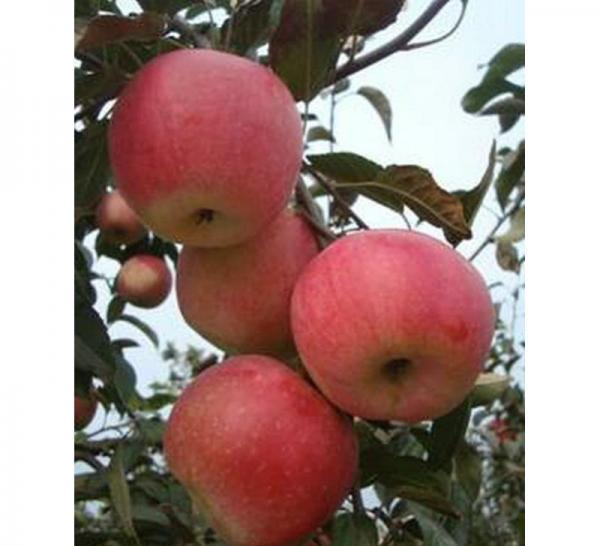apple: (105, 43, 304, 246), (287, 231, 494, 418), (164, 354, 356, 541), (175, 209, 328, 360), (114, 253, 172, 308)
